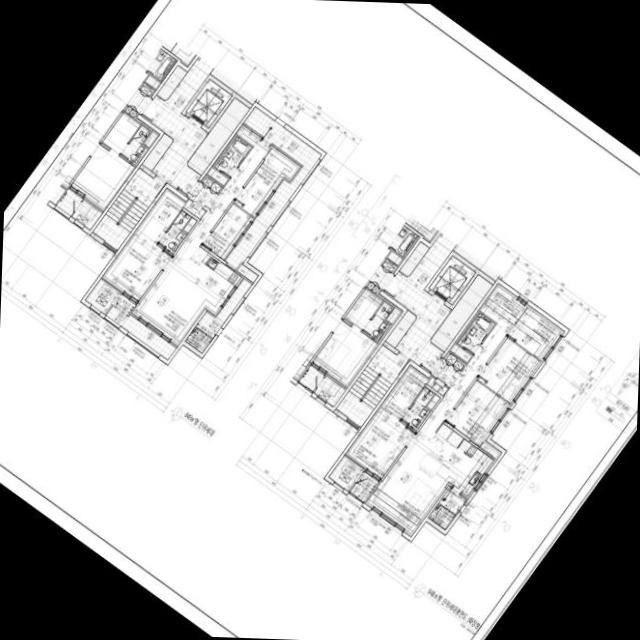background: (0, 0, 640, 640)
space_balconi: (225, 107, 320, 269), (185, 279, 251, 353), (105, 294, 175, 360), (428, 488, 465, 529), (349, 472, 378, 502)
space_bedroom: (347, 407, 414, 477), (104, 231, 171, 301), (234, 148, 297, 216), (477, 338, 539, 403), (446, 381, 508, 446), (203, 204, 252, 258)
space_dressroom: (138, 191, 184, 244), (381, 367, 427, 420)
space_elevator_hall: (141, 61, 231, 196), (384, 238, 474, 373)
space_front: (426, 352, 465, 395), (183, 176, 221, 219)
space_kitchen: (416, 423, 493, 496), (173, 246, 240, 312)
space_living_room: (367, 286, 526, 533), (134, 127, 270, 343)
space_other: (430, 274, 492, 352), (187, 98, 249, 175), (507, 308, 561, 360), (141, 133, 172, 171), (385, 310, 415, 348), (156, 65, 186, 100), (399, 242, 429, 277), (450, 344, 471, 362), (207, 168, 228, 186)
space_outdoor_room: (328, 456, 363, 491), (85, 279, 119, 314)
space_staircase: (92, 168, 163, 249), (336, 345, 406, 426)
space_toilet: (158, 210, 196, 254), (401, 387, 439, 430), (457, 313, 494, 354), (214, 137, 251, 177)
